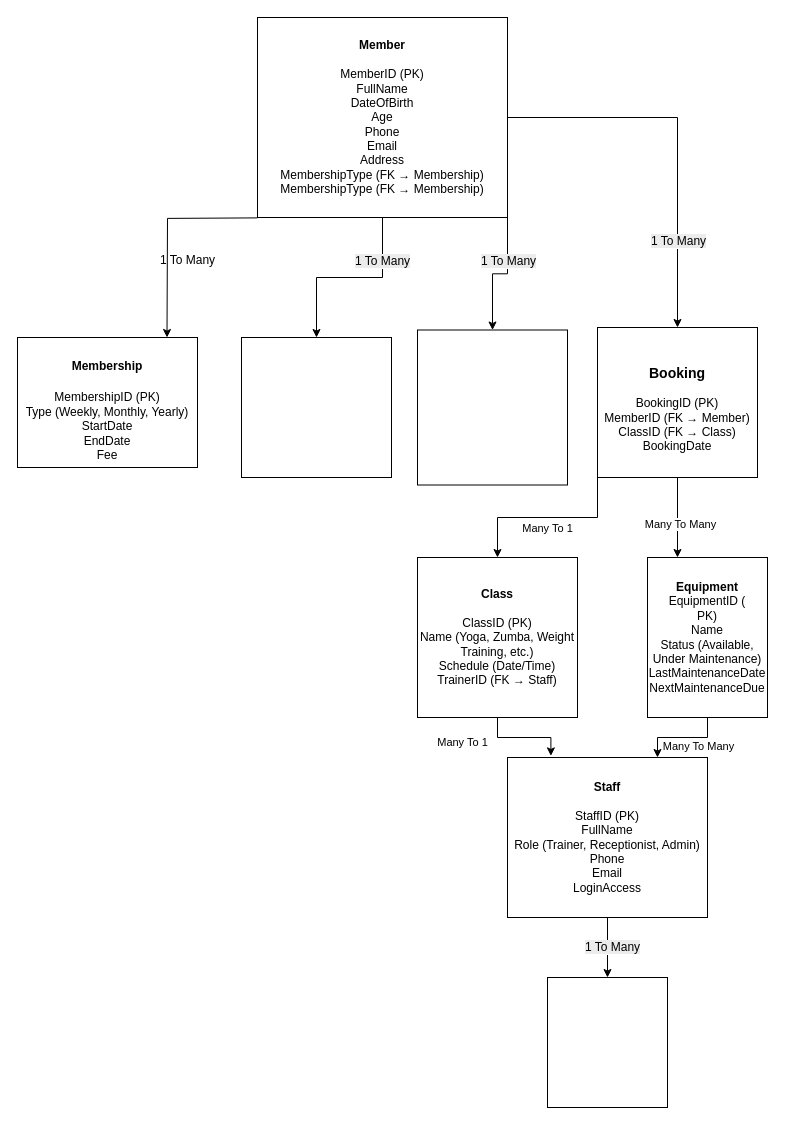
Image size: 785x1125. Some labels were removed from this diagram. Here are the shapes that lost their labels. From the top down, the box of each, then its label:
(240, 336, 392, 478): Payment PaymentID (PK) MemberID (FK → Member) Amount Date DueDate Status
(416, 329, 568, 485): Attendance AttendanceID (PK) MemberID (FK → Member) Date TimeIn TimeOut
(546, 976, 668, 1108): SystemLog LogID (PK) StaffID (FK → Staff) LoginTime LogoutTime
